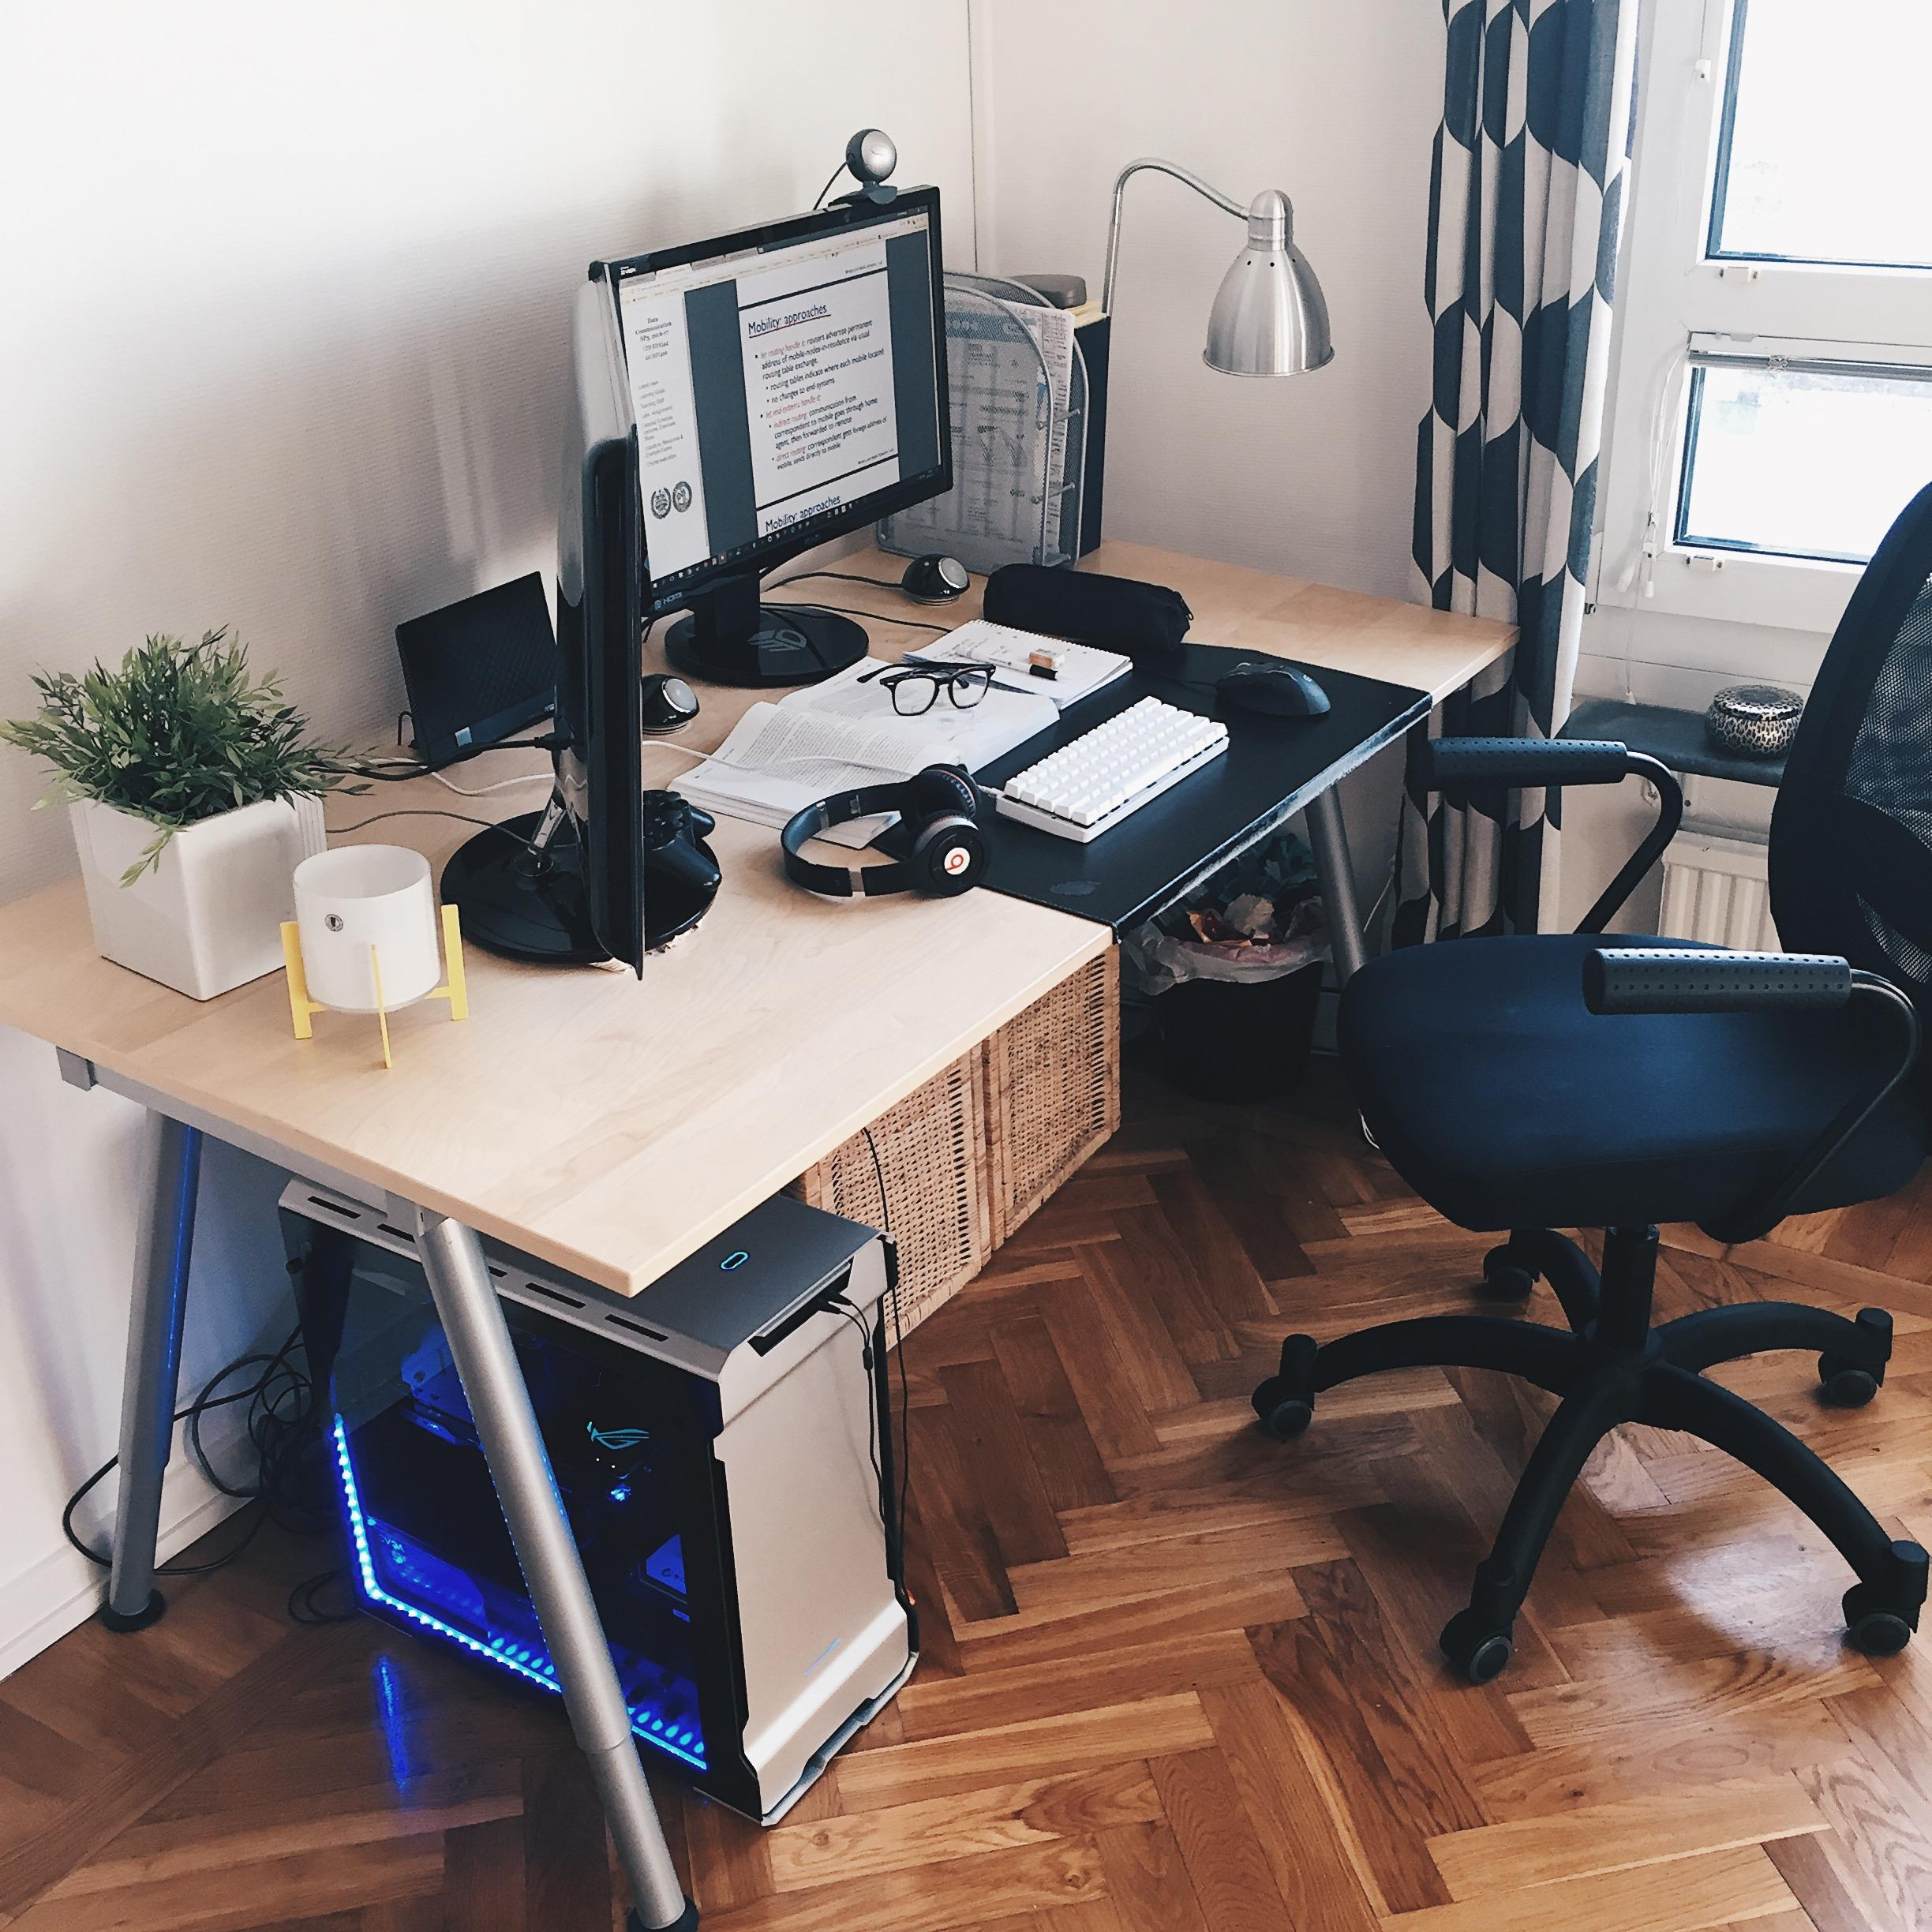Book: (674, 655, 1047, 830)
Chair (Generic): (1265, 456, 1932, 1718)
Decoration (Plant): (7, 637, 311, 1003)
Desk (Generic): (0, 545, 1520, 1334)
Desktop (Windows): (269, 1171, 941, 1831)
External Speakers (Generic): (395, 577, 561, 768)
External Webcam: (816, 124, 913, 212)
Headphones: (773, 763, 991, 918)
Keyboard (Generic): (984, 695, 1247, 839)
Lamp (Desk): (1058, 140, 1366, 407)
Monitor (Landscape): (610, 189, 954, 600), (541, 285, 651, 973)
Mouse (Generic): (1219, 648, 1353, 715)
Mousepad (Gaming): (952, 648, 1447, 922)
Notebook: (931, 602, 1109, 717)
Trash Can: (1136, 856, 1350, 1113)
